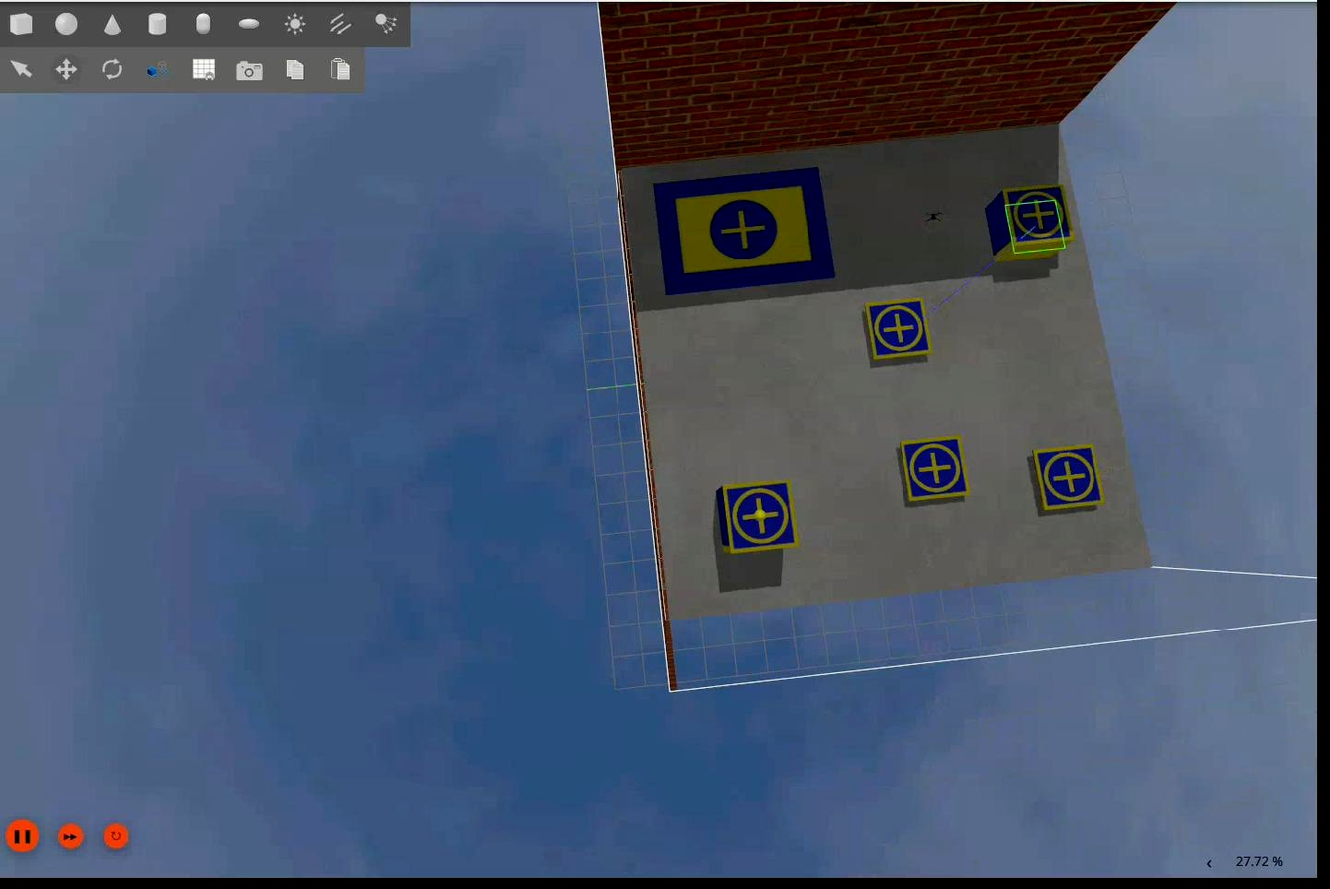large_base: (652, 170, 838, 293)
small_base: (721, 483, 802, 557), (1035, 444, 1108, 516), (862, 297, 935, 365), (1000, 184, 1076, 249), (900, 437, 973, 504)
